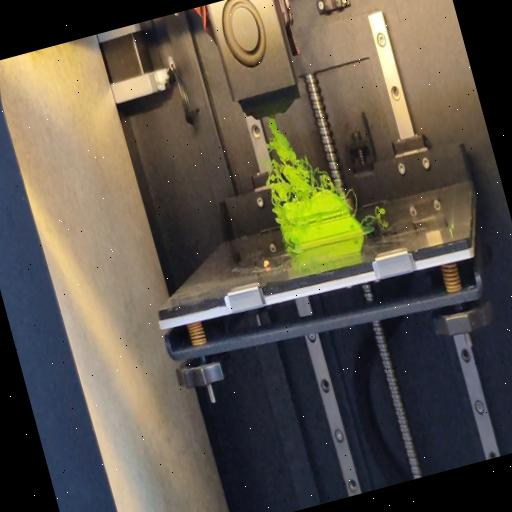spaghetti: (248, 104, 340, 210), (274, 206, 296, 253), (354, 205, 388, 229), (342, 184, 361, 215)
